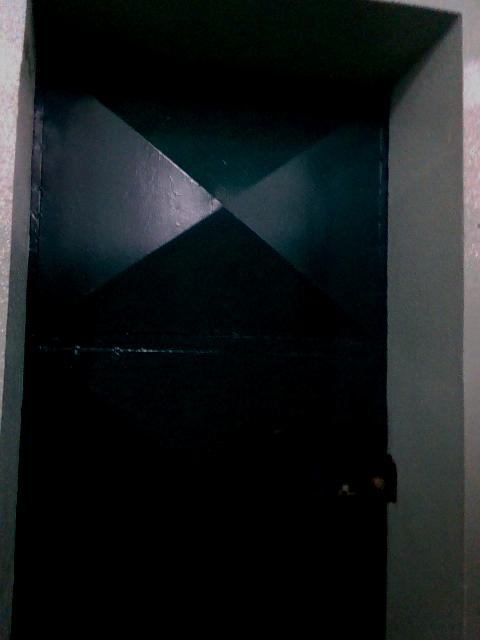closed_door: (5, 35, 397, 639)
